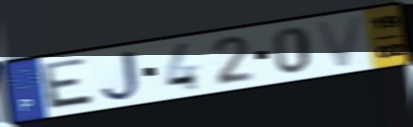0: (271, 25, 312, 77)
2: (210, 34, 257, 88)
4: (159, 41, 206, 93)
E: (40, 56, 98, 112)
J: (99, 48, 143, 104)
V: (313, 13, 367, 72)
